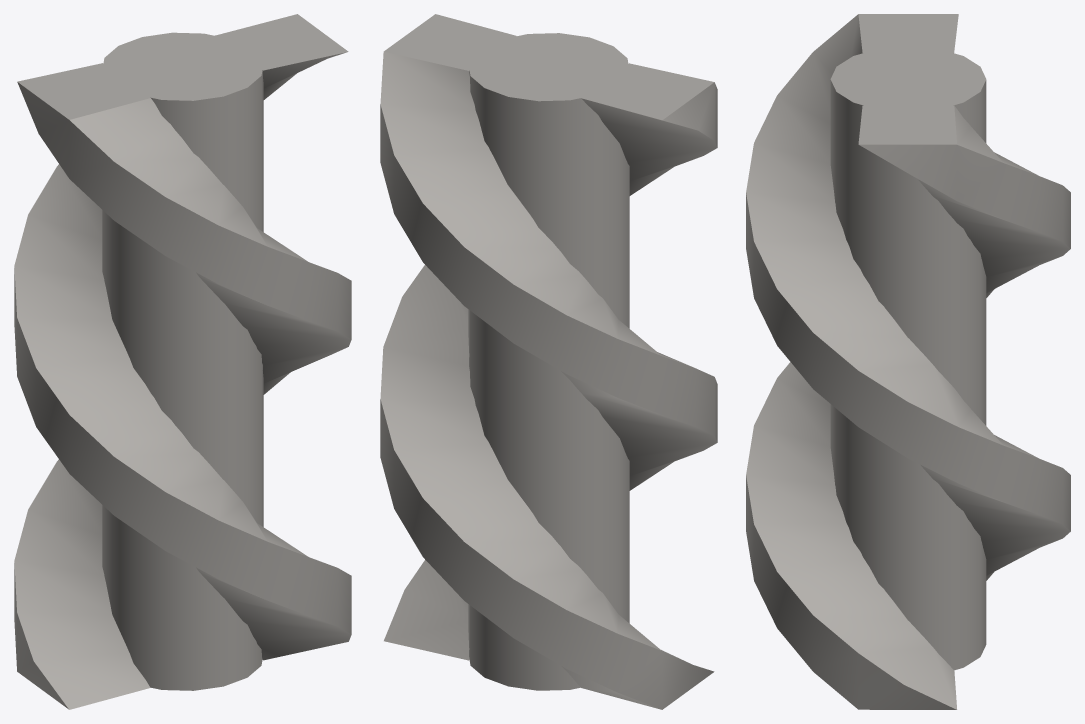
Rendered from ice_screw_helix.FBX.
3 renders of one model, left to right at view 1: azimuth 30°, elevation 25°; view 2: azimuth 150°, elevation 25°; view 3: azimuth 270°, elevation 25°, orthographic. The views are drawn at different scales.
Visible parts, largest first — view 1: Ice_Prop_Helix; view 2: Ice_Prop_Helix; view 3: Ice_Prop_Helix.
Boxes of the visible parts, x1,y1,x2,y2 form: Ice_Prop_Helix: [14, 14, 351, 709]; Ice_Prop_Helix: [380, 14, 717, 709]; Ice_Prop_Helix: [746, 14, 1070, 709].
Bounding box in the file's own units: 1.04 × 2 × 1.04.
